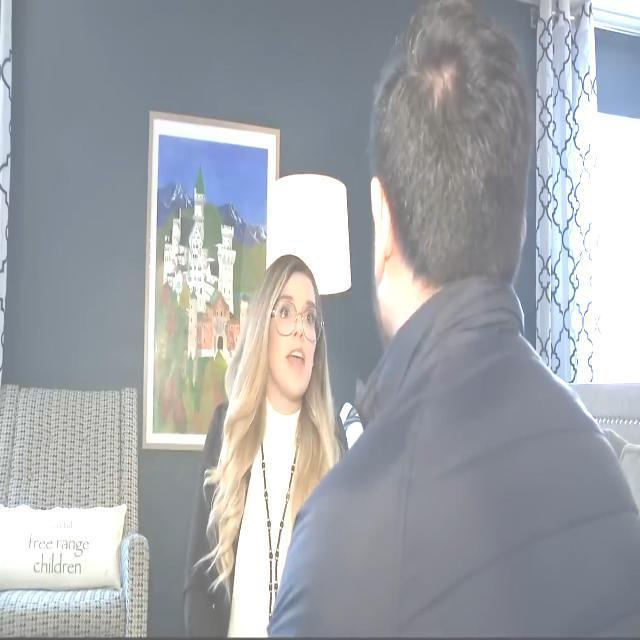non-fight: (348, 27, 569, 640), (200, 252, 352, 640)
